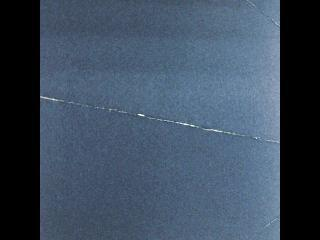crack: (40, 87, 281, 152)
